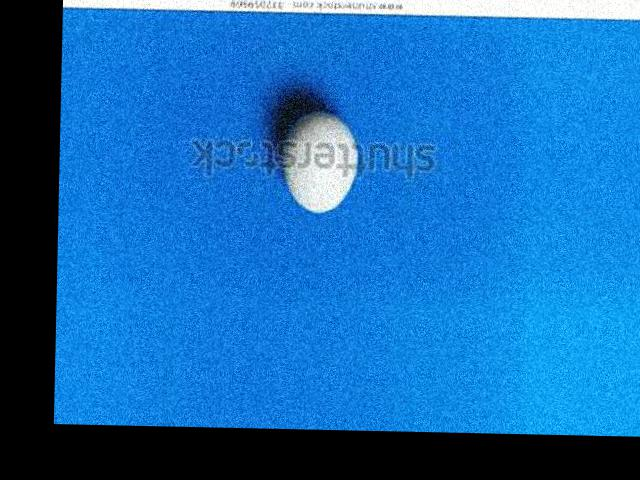egg: (281, 110, 356, 216)
